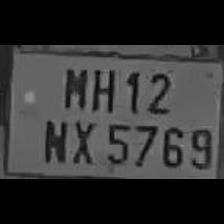1: (120, 64, 142, 114)
2: (141, 65, 173, 115)
5: (98, 117, 130, 165)
6: (157, 122, 185, 168)
7: (130, 119, 155, 169)
9: (185, 122, 213, 172)
H: (88, 62, 118, 112)
M: (58, 63, 88, 111)
N: (40, 114, 68, 164)
X: (68, 114, 96, 166)
